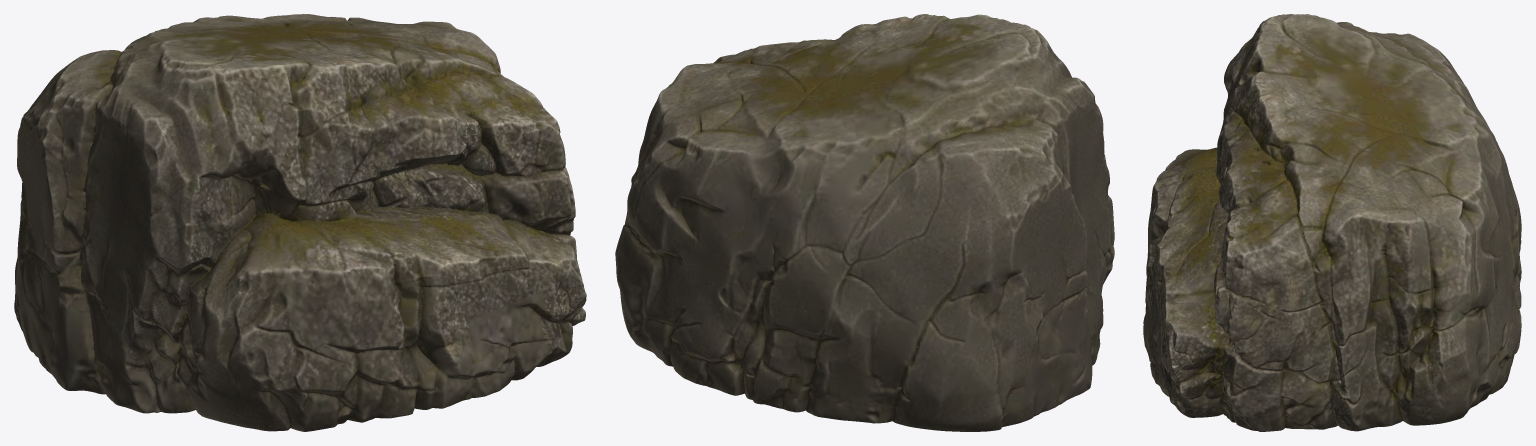
Rendered from Meshy_AI_medium_boulder_a_0823024725_image-to-3d-texture.glb.
3 renders of one model, left to right at view 1: azimuth 30°, elevation 25°; view 2: azimuth 150°, elevation 25°; view 3: azimuth 270°, elevation 25°, orthographic. The views are drawn at different scales.
Parts seen in each view (by area): view 1: mesh_node; view 2: mesh_node; view 3: mesh_node.
Part boxes in pixels (x1=…): mesh_node: x1=14, y1=14, x2=586, y2=431; mesh_node: x1=615, y1=14, x2=1114, y2=431; mesh_node: x1=1143, y1=14, x2=1521, y2=431.
Size of the model in its own units: 1.9 by 1.3 by 1.62.
Materials: 1 (1 with a texture image).
